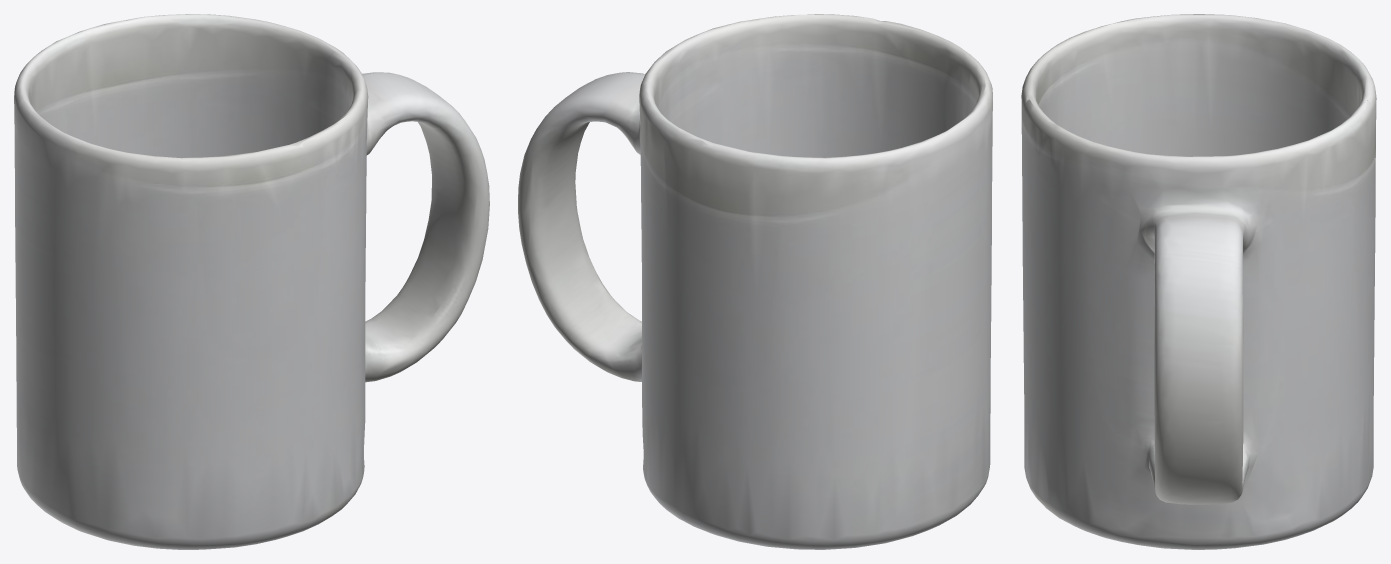
The model's file is caneca.glb.
The picture shows the model from 3 angles, left to right: view 1: azimuth 30°, elevation 25°; view 2: azimuth 150°, elevation 25°; view 3: azimuth 270°, elevation 25°; orthographic projection.
Visible parts, largest first — view 1: caneca; view 2: caneca; view 3: caneca.
Part boxes in pixels (x1,y1,x2,y2): caneca: (14, 14, 489, 549); caneca: (518, 14, 992, 549); caneca: (1021, 14, 1376, 549).
Size of the model in its own units: 0.12 by 0.1069 by 0.0844.
1 material, 1 textured.
